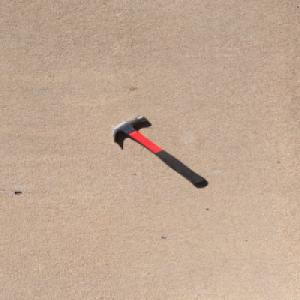Hammer: (110, 113, 207, 186)
